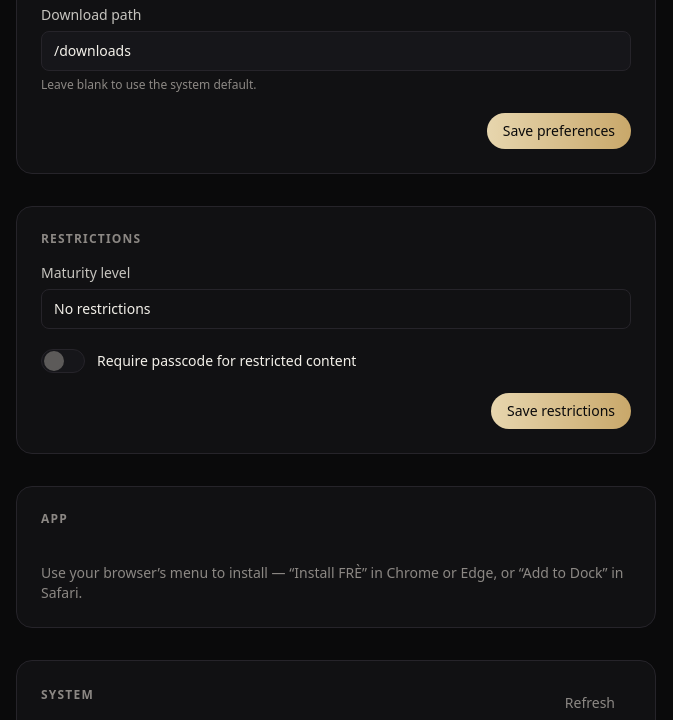
Test case: SettingsView › toggling require-passcode reveals the passcode inputs
(page scrolled)
Toggle it on
Click the switch at (199, 361), box [41,349,356,373]
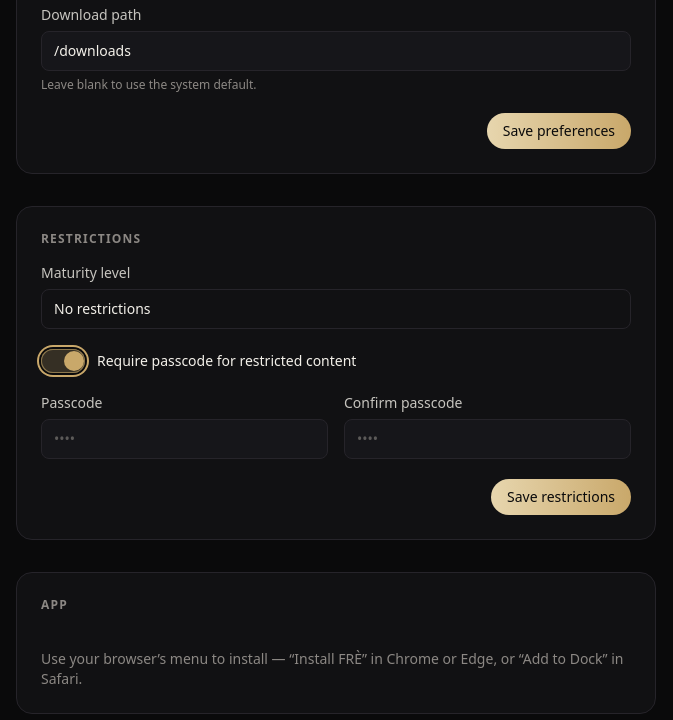
Expected: the element with test id "passcode-fields" is shown, [41,393,631,459]
